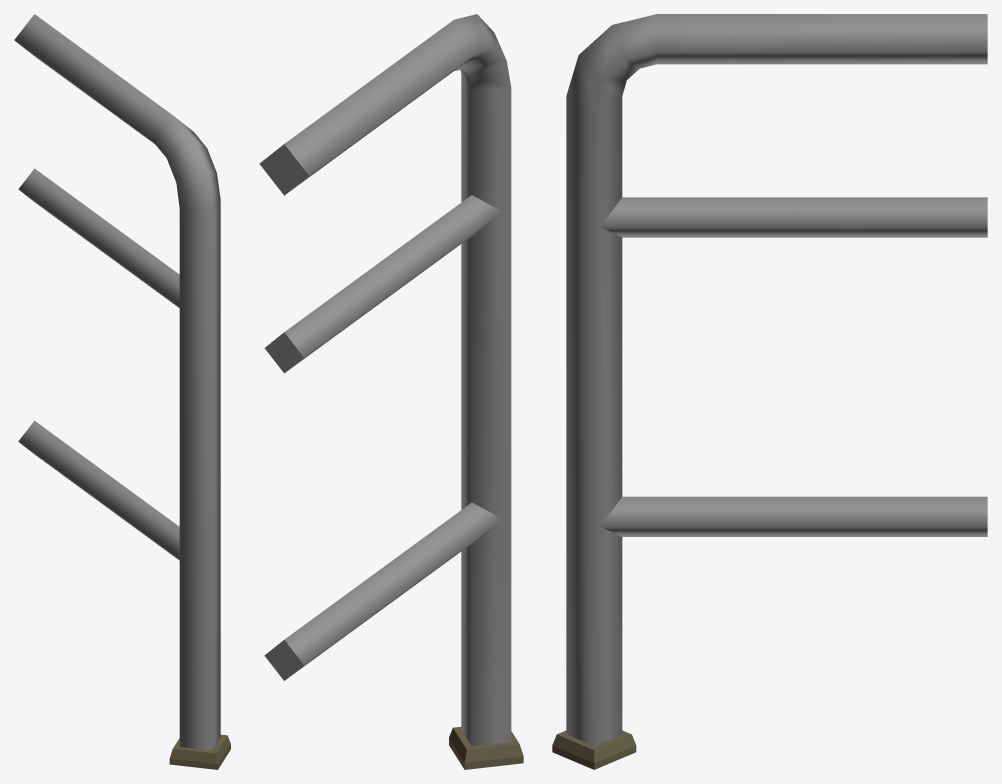
File: SW_ENV_Railing_End.fbx
3 renders of one model, left to right at view 1: azimuth 30°, elevation 25°; view 2: azimuth 150°, elevation 25°; view 3: azimuth 270°, elevation 25°, orthographic. The views are drawn at different scales.
Visible parts, largest first — view 1: SW_ENV_Railing_End; view 2: SW_ENV_Railing_End; view 3: SW_ENV_Railing_End.
Boxes of the visible parts, box(x1,y1,x2,y2) form: SW_ENV_Railing_End: box(14, 14, 230, 769); SW_ENV_Railing_End: box(259, 14, 523, 769); SW_ENV_Railing_End: box(552, 14, 987, 769).
Size of the model in its own units: 0.1068 by 1.04 by 0.5534.
